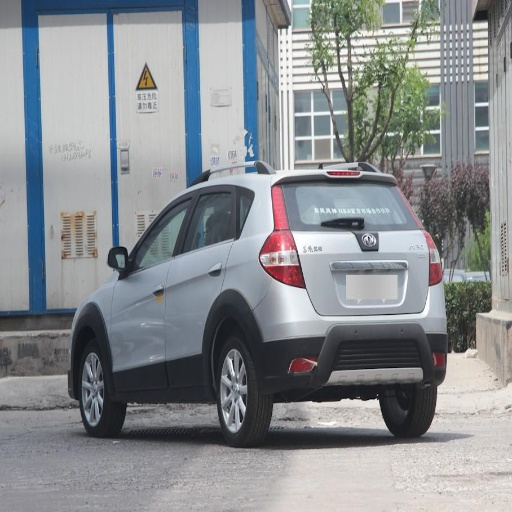back_bumper: (242, 276, 445, 395)
back_glass: (287, 178, 400, 205)
back_left_door: (170, 187, 235, 385)
